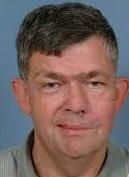strokeMouthWeak: (55, 120, 102, 137)
